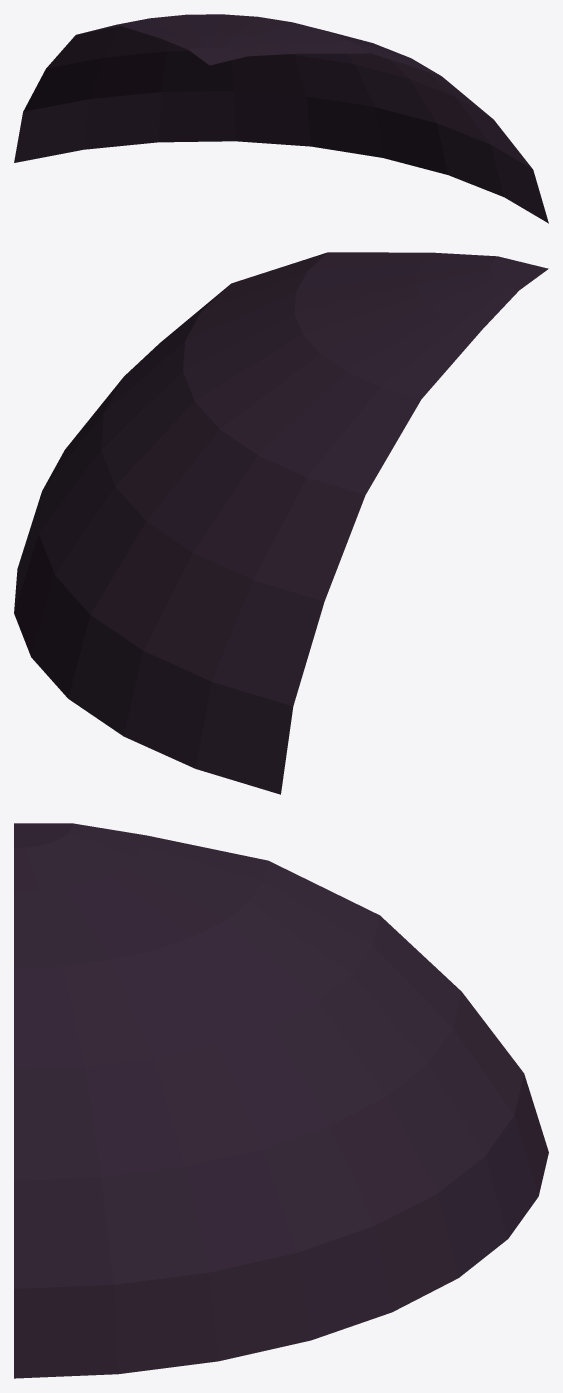
The model's file is SiloTop.fbx.
The picture shows the model from 3 angles, top to bottom: view 1: azimuth 30°, elevation 25°; view 2: azimuth 150°, elevation 25°; view 3: azimuth 270°, elevation 25°; orthographic projection. The views are drawn at different scales.
Visible parts, largest first — view 1: SiloTop; view 2: SiloTop; view 3: SiloTop.
Part boxes in pixels (x1,y1,x2,y2): SiloTop: [14, 14, 548, 223]; SiloTop: [14, 252, 548, 794]; SiloTop: [14, 823, 548, 1378].
Bounding box in the file's own units: 120 × 81.44 × 120.
